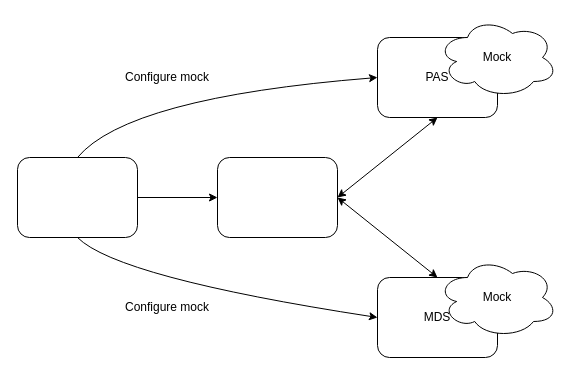
This 575x375 diagram has some shape labels left out. The shapes that lost their labels are listed below. From the top down, each one's box as (x1, y1, x2, y2) in pixels, then its label:
(16, 156, 138, 238): Tests
(216, 156, 338, 238): ARK
